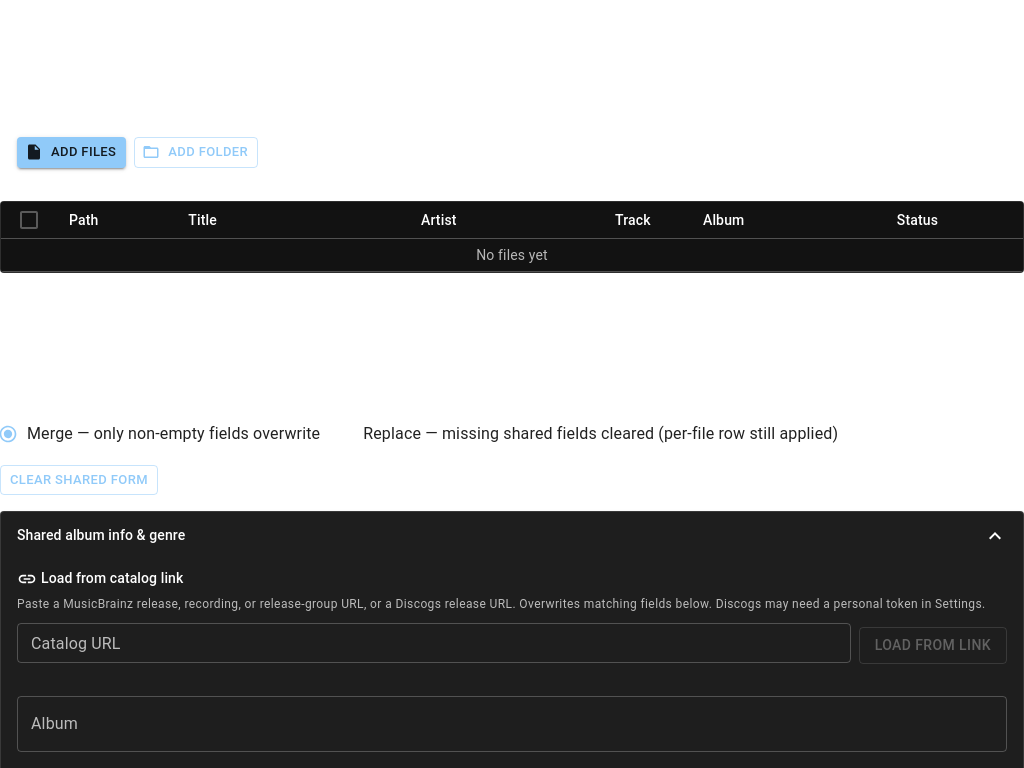
Test case: LocalLibraryBatchView › loads files and shows a row
This screenshot has width=1024, height=768.
Click the button "Add files" at (72, 152), box x1=17 y1=137 x2=126 y2=168
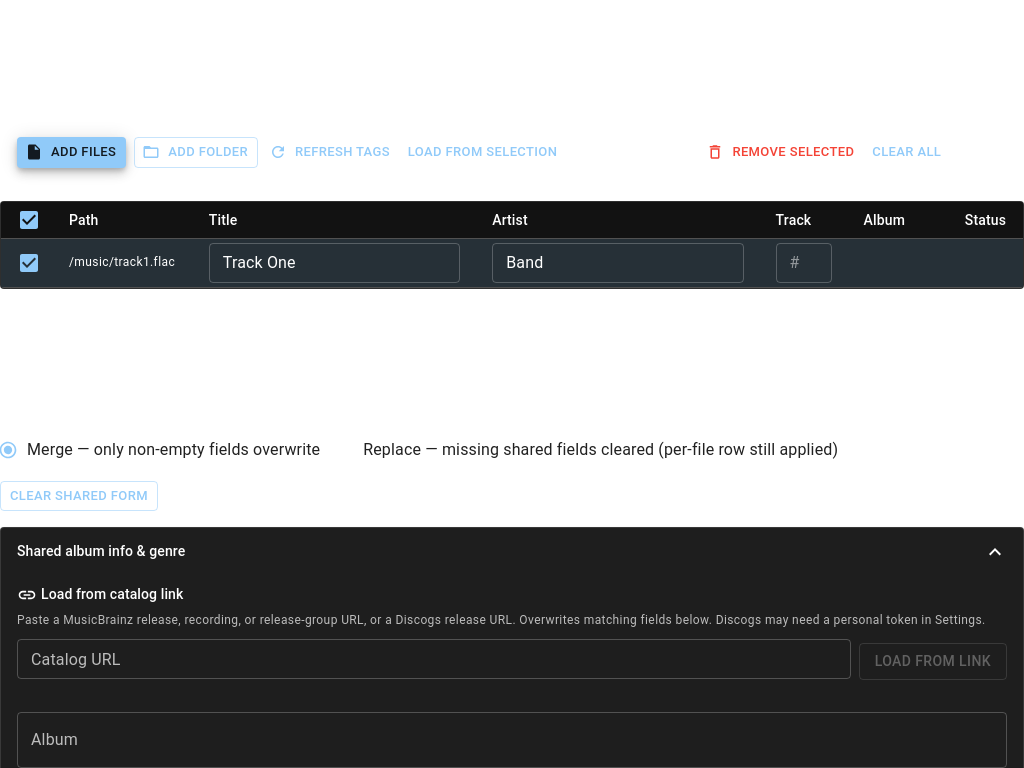
Now the field showing "Track One" is shown, box x1=209 y1=243 x2=460 y2=283
